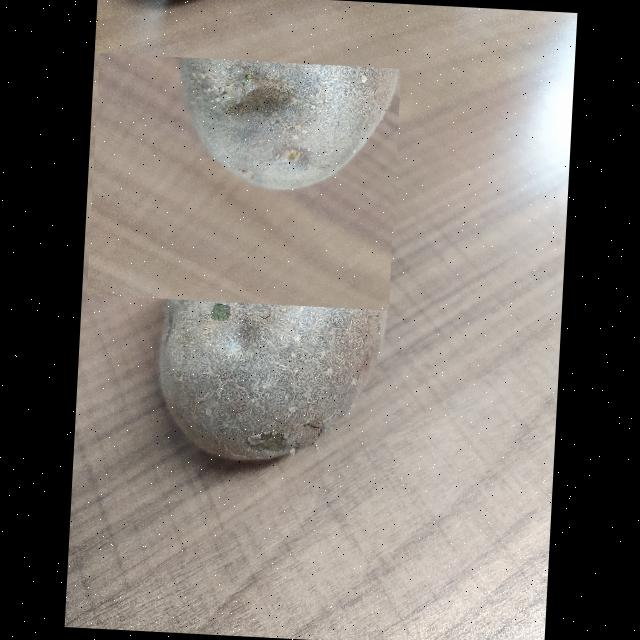Damaged potato: (86, 54, 400, 310)
